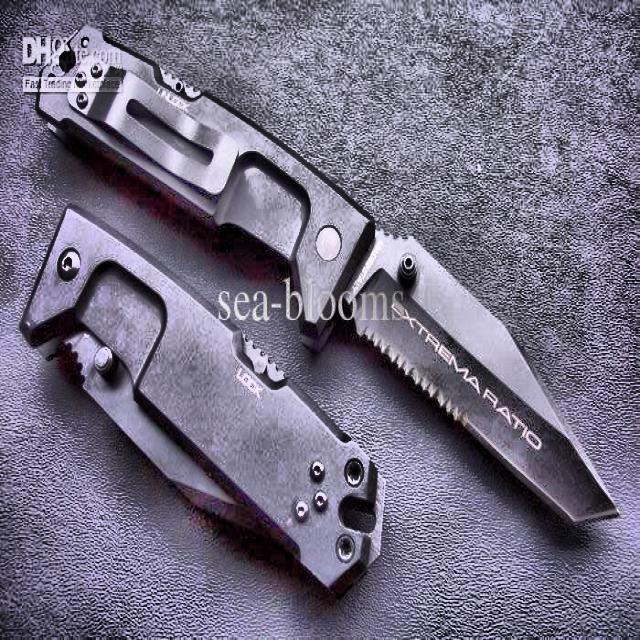knife: (38, 32, 619, 523), (21, 211, 385, 588)
